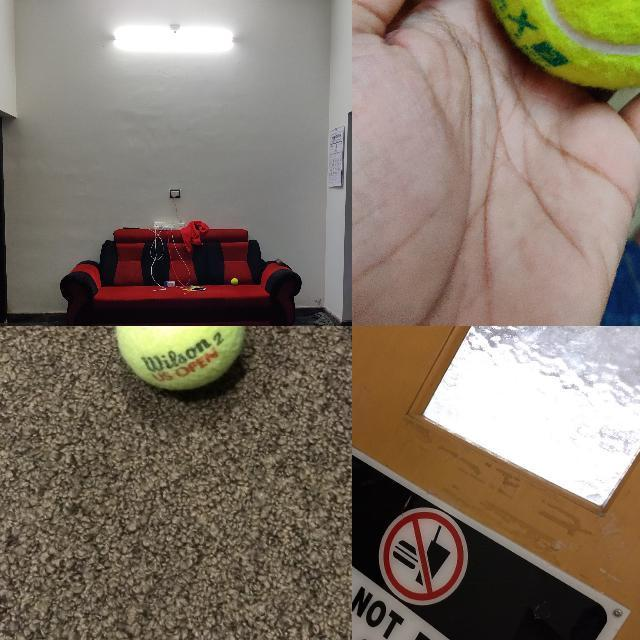tennis-ball: (485, 0, 639, 89), (114, 326, 247, 394), (231, 277, 238, 285)
